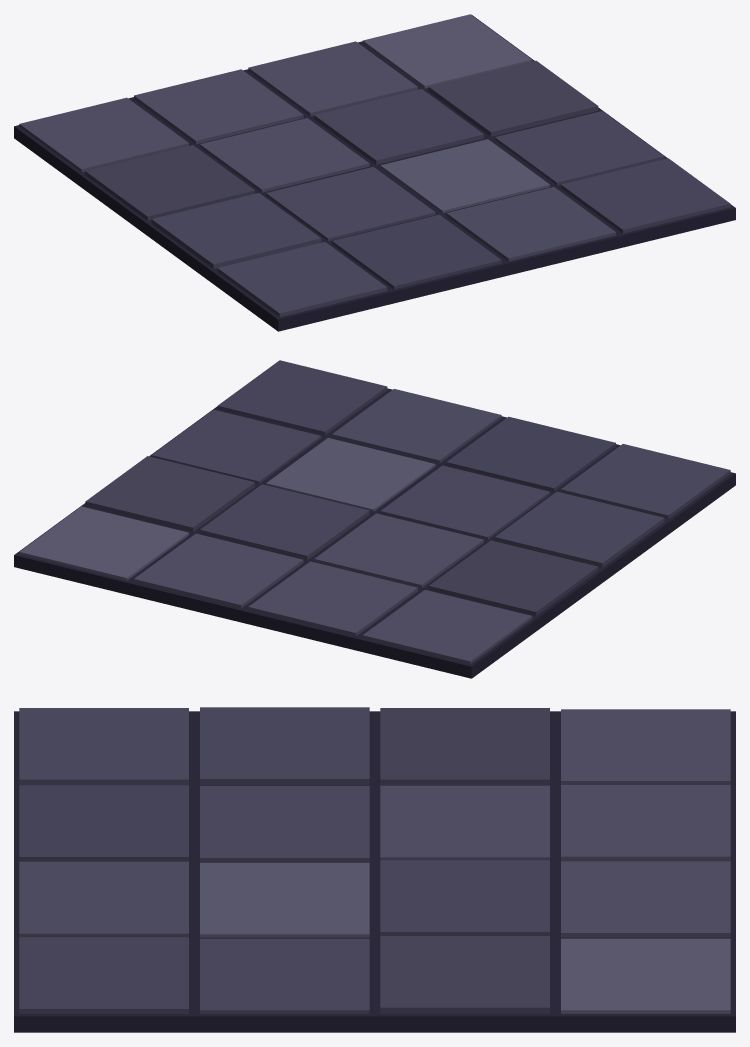
Rendered from dun_floor_a.glb.
3 renders of one model, top to bottom at view 1: azimuth 30°, elevation 25°; view 2: azimuth 150°, elevation 25°; view 3: azimuth 270°, elevation 25°, orthographic. The views are drawn at different scales.
Visible parts, largest first — view 1: dun_floor_a; view 2: dun_floor_a; view 3: dun_floor_a.
Boxes of the visible parts, bbox=[...] form: dun_floor_a: bbox=[14, 14, 735, 331]; dun_floor_a: bbox=[14, 360, 735, 678]; dun_floor_a: bbox=[14, 707, 735, 1032].
Size of the model in its own units: 4 by 0.1392 by 4.
